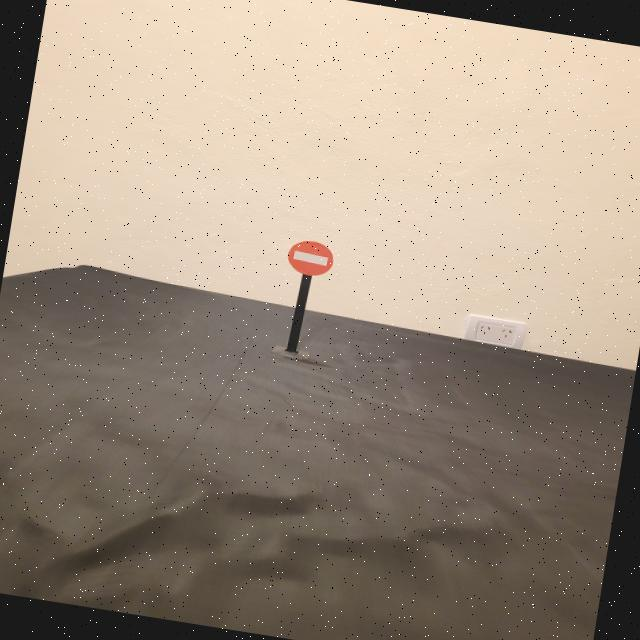no_entry: (284, 237, 336, 280)
